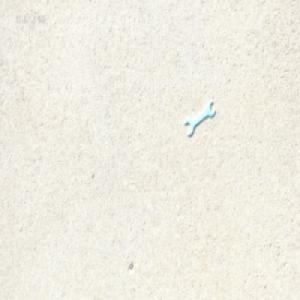Wrench: (184, 100, 214, 135)
